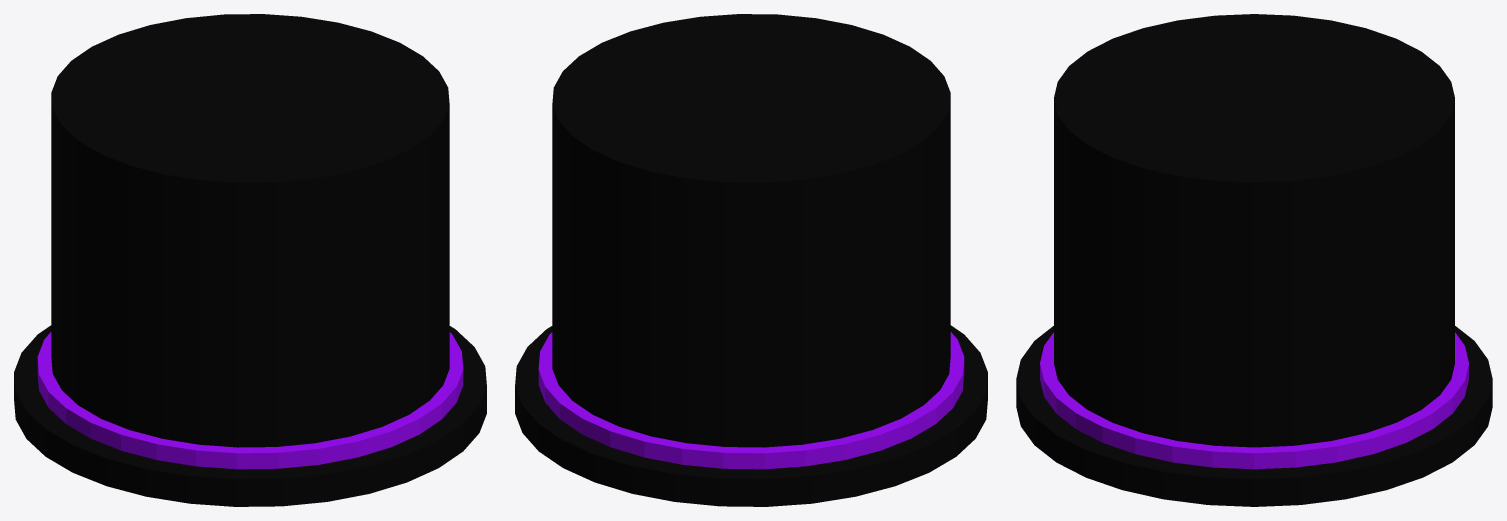
Rendered from tophat.fbx.
3 views of the same model, side by side, from view 1: azimuth 30°, elevation 25°; view 2: azimuth 150°, elevation 25°; view 3: azimuth 270°, elevation 25° (orthographic).
Parts seen in each view (by area): view 1: Cylinder.002, Cylinder, Cylinder.001; view 2: Cylinder.002, Cylinder, Cylinder.001; view 3: Cylinder.002, Cylinder, Cylinder.001.
Part boxes in pixels (x1,y1,x2,y2): Cylinder.002: (51, 14, 449, 447); Cylinder: (14, 325, 486, 506); Cylinder.001: (37, 332, 463, 469); Cylinder.002: (552, 14, 950, 447); Cylinder: (515, 325, 987, 506); Cylinder.001: (538, 332, 964, 469); Cylinder.002: (1054, 14, 1454, 447); Cylinder: (1016, 326, 1492, 506); Cylinder.001: (1040, 332, 1468, 469).
Bounding box in the file's own units: 297 × 214 × 299.
